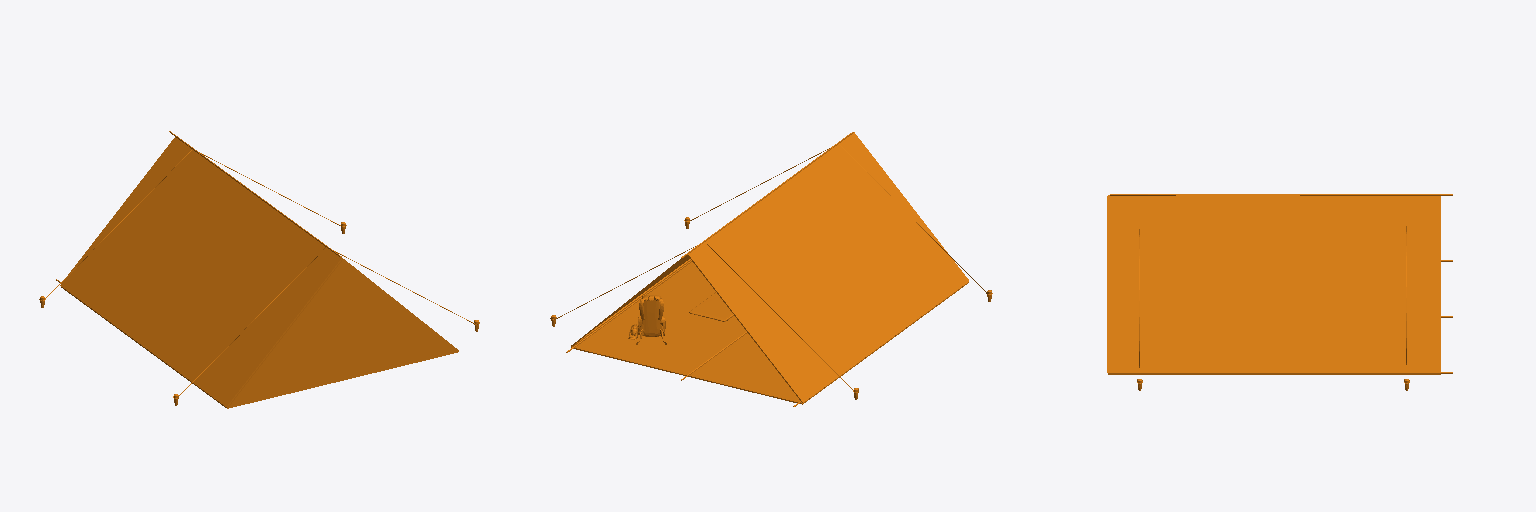
The model's file is Tent.obj.
3 views of the same model, side by side, from view 1: azimuth 30°, elevation 25°; view 2: azimuth 150°, elevation 25°; view 3: azimuth 270°, elevation 25° (orthographic).
Visible parts, largest first — view 1: Extrude, Cap_2_4; view 2: Extrude, 12305_Backpack_v1, Cube; view 3: Extrude, Cylinder.
Part boxes in pixels (x1,y1,x2,y2): Extrude: (60, 137, 458, 408); Cap_2_4: (227, 259, 458, 407); Extrude: (571, 132, 968, 404); 12305_Backpack_v1: (636, 295, 666, 344); Cube: (689, 292, 733, 321); Extrude: (1108, 195, 1440, 374); Cylinder: (1110, 194, 1452, 195).
Bounding box in the file's own units: 277 × 106 × 270.